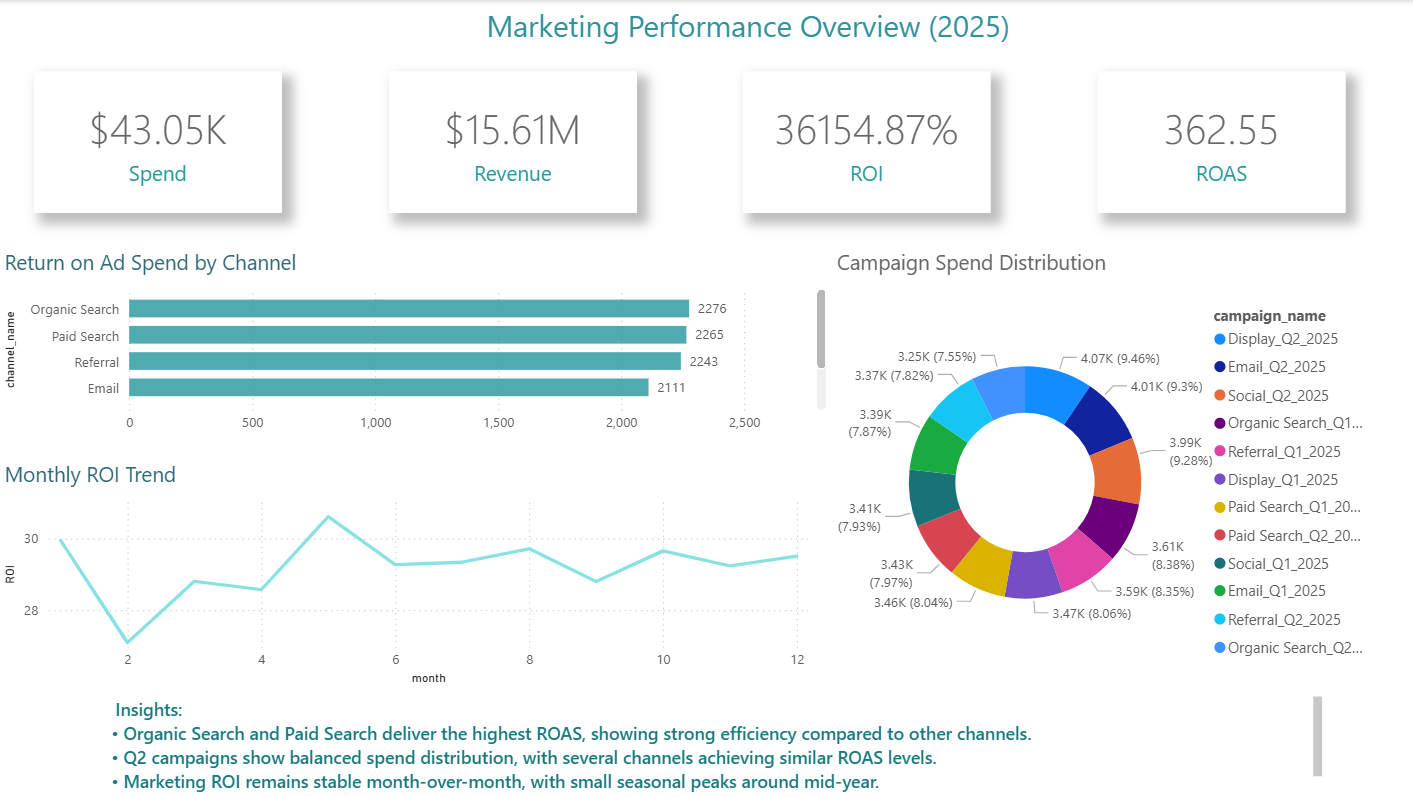

Layout of this report page (visuals, bound fields, positions):
{"tool":"powerbi","page":{"name":"Marketing Performance","canvas":[1280,720],"ordinal":1},"visuals":[{"type":"card","fields":{"Values":["fact_orders.Revenue"]},"box":[352,64,224,128],"z":0},{"type":"card","fields":{"Values":["fact_orders.ROAS"]},"box":[992,64,224,128],"z":1000},{"type":"card","fields":{"Values":["fact_orders.ROI"]},"box":[672,64,224,128],"z":2000},{"type":"card","fields":{"Values":["fact_orders.Spend"]},"box":[32,64,224,128],"z":3000},{"type":"clusteredBarChart","title":"Return on Ad Spend by Channel","fields":{"Category":["dim_channel.channel_name"],"Y":["fact_orders.ROAS"]},"box":[0,224,752,176],"z":4000},{"type":"donutChart","title":"Campaign Spend Distribution","fields":{"Category":["dim_campaign.campaign_name"],"Y":["fact_orders.Spend"]},"box":[752,224,496,400],"z":5000},{"type":"lineChart","title":"Monthly ROI Trend","fields":{"Category":["dim_date.month"],"Y":["fact_orders.ROI"]},"box":[0,416,736,208],"z":6000},{"type":"textbox","box":[96,624,1104,96],"z":7000},{"type":"textbox","box":[352,0,656,48],"z":8000}]}

Visuals, with their boxes in screenshot pixels (x1, y1, x2, y2), scaled from the page's 1280x720 canvas onto the 1413x797 screenshot:
card - fact_orders.Revenue: box=[389, 71, 636, 213]
card - fact_orders.ROAS: box=[1095, 71, 1342, 213]
card - fact_orders.ROI: box=[742, 71, 989, 213]
card - fact_orders.Spend: box=[35, 71, 283, 213]
"Return on Ad Spend by Channel" clusteredBarChart: box=[0, 248, 830, 443]
"Campaign Spend Distribution" donutChart: box=[830, 248, 1378, 691]
"Monthly ROI Trend" lineChart: box=[0, 460, 812, 691]
textbox: box=[106, 691, 1325, 796]
textbox: box=[389, 0, 1113, 53]
